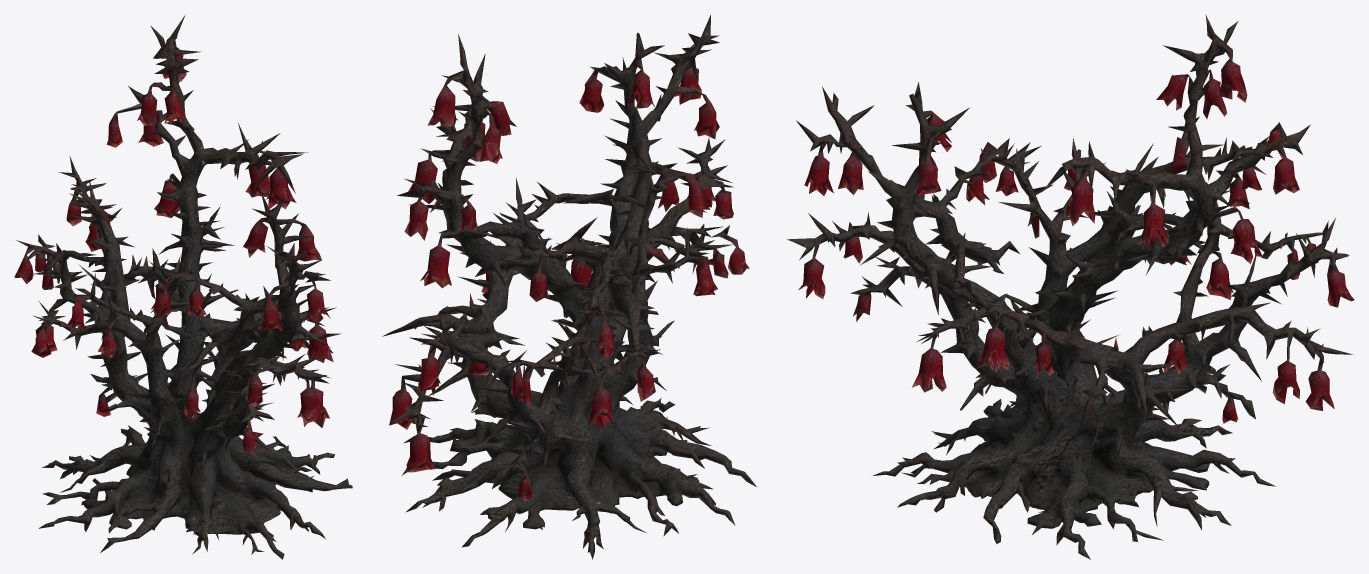
Rendered from bellthorn_shrub.glb.
3 views of the same model, side by side, from view 1: azimuth 30°, elevation 25°; view 2: azimuth 150°, elevation 25°; view 3: azimuth 270°, elevation 25° (orthographic). The views are drawn at different scales.
Parts seen in each view (by area): view 1: tripo_node_e701e82f-094a-4513-9acd-3879c804d8c6; view 2: tripo_node_e701e82f-094a-4513-9acd-3879c804d8c6; view 3: tripo_node_e701e82f-094a-4513-9acd-3879c804d8c6.
Part boxes in pixels (box(x1,y1,x2,y2)): tripo_node_e701e82f-094a-4513-9acd-3879c804d8c6: box(14, 14, 352, 559); tripo_node_e701e82f-094a-4513-9acd-3879c804d8c6: box(382, 14, 756, 559); tripo_node_e701e82f-094a-4513-9acd-3879c804d8c6: box(787, 14, 1354, 559).
Bounding box in the file's own units: 0.6924 × 0.9662 × 1.
1 material, 1 textured.
